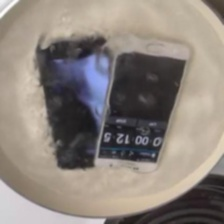phone: (32, 28, 134, 173), (92, 33, 196, 174)
